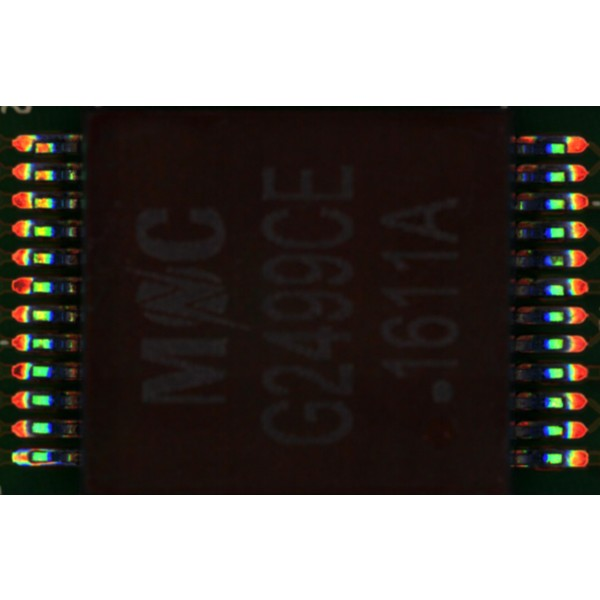Bad_qiaojiao: (27, 462, 66, 467), (31, 447, 60, 452)
